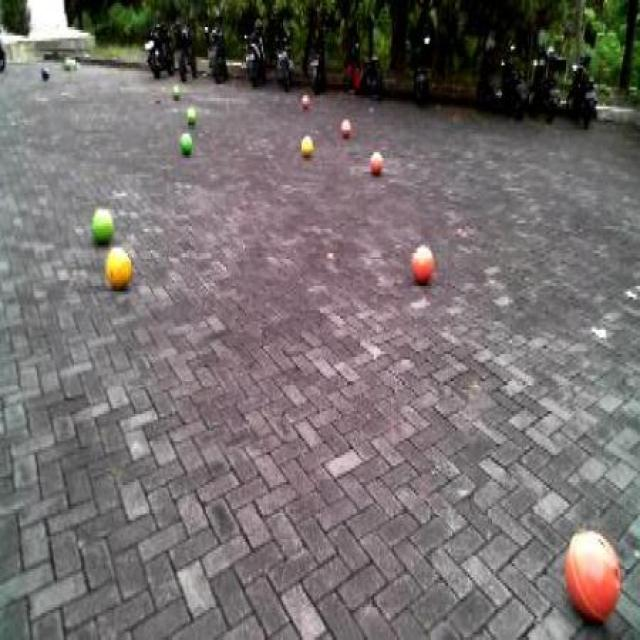buoy: (558, 518, 630, 636), (101, 236, 132, 294), (406, 234, 436, 288), (88, 196, 115, 242)
